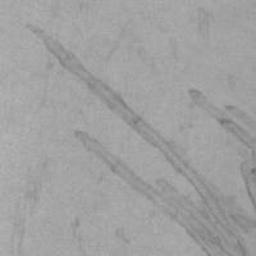Water spot: (26, 22, 256, 256)
